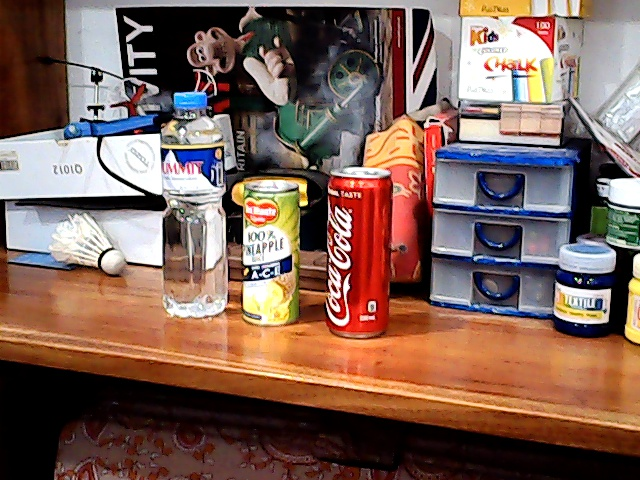Cola: (318, 164, 401, 340)
Pine Juice: (237, 175, 300, 332)
Summit Water: (150, 92, 227, 320)
